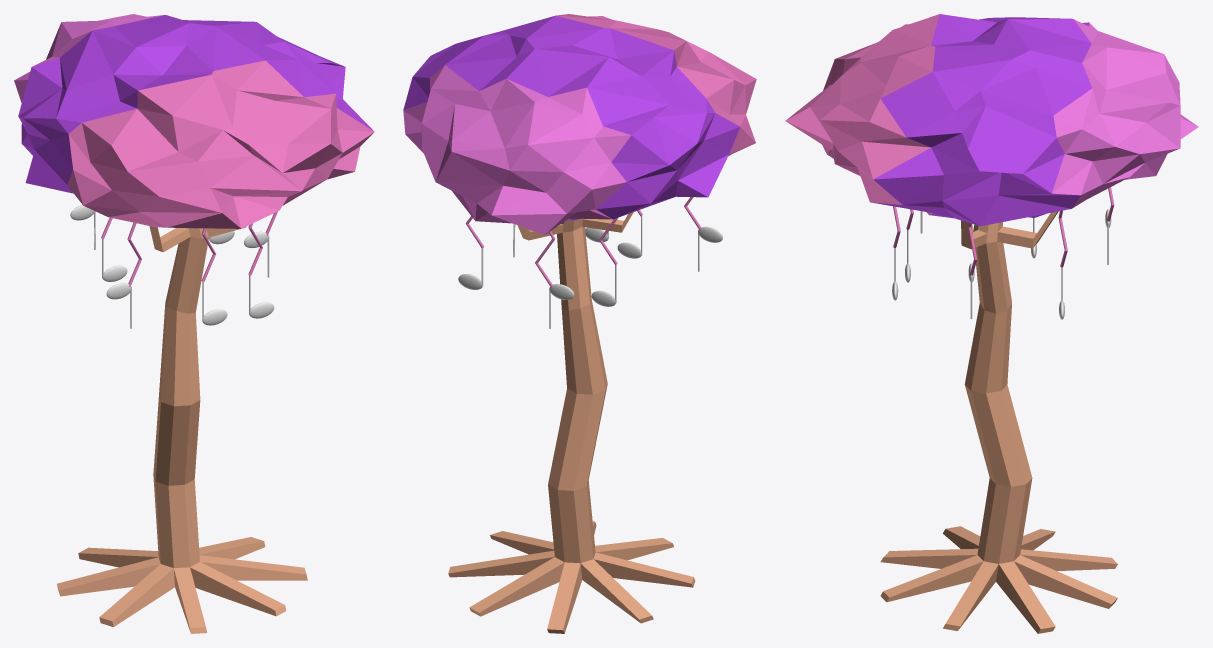
The model's file is Abstract Treeblend (1).fbx.
The picture shows the model from 3 angles, left to right: view 1: azimuth 30°, elevation 25°; view 2: azimuth 150°, elevation 25°; view 3: azimuth 270°, elevation 25°; orthographic projection.
Visible parts, largest first — view 1: Cylinder.001, Cylinder; view 2: Cylinder.001, Cylinder; view 3: Cylinder.001, Cylinder.
Boxes of the visible parts, x1,y1,x2,y2 form: Cylinder.001: [14, 14, 374, 228]; Cylinder: [57, 226, 307, 633]; Cylinder.001: [403, 14, 756, 235]; Cylinder: [448, 212, 695, 633]; Cylinder.001: [785, 14, 1198, 226]; Cylinder: [880, 211, 1117, 633].
Bounding box in the file's own units: 855 × 1487 × 1020.
